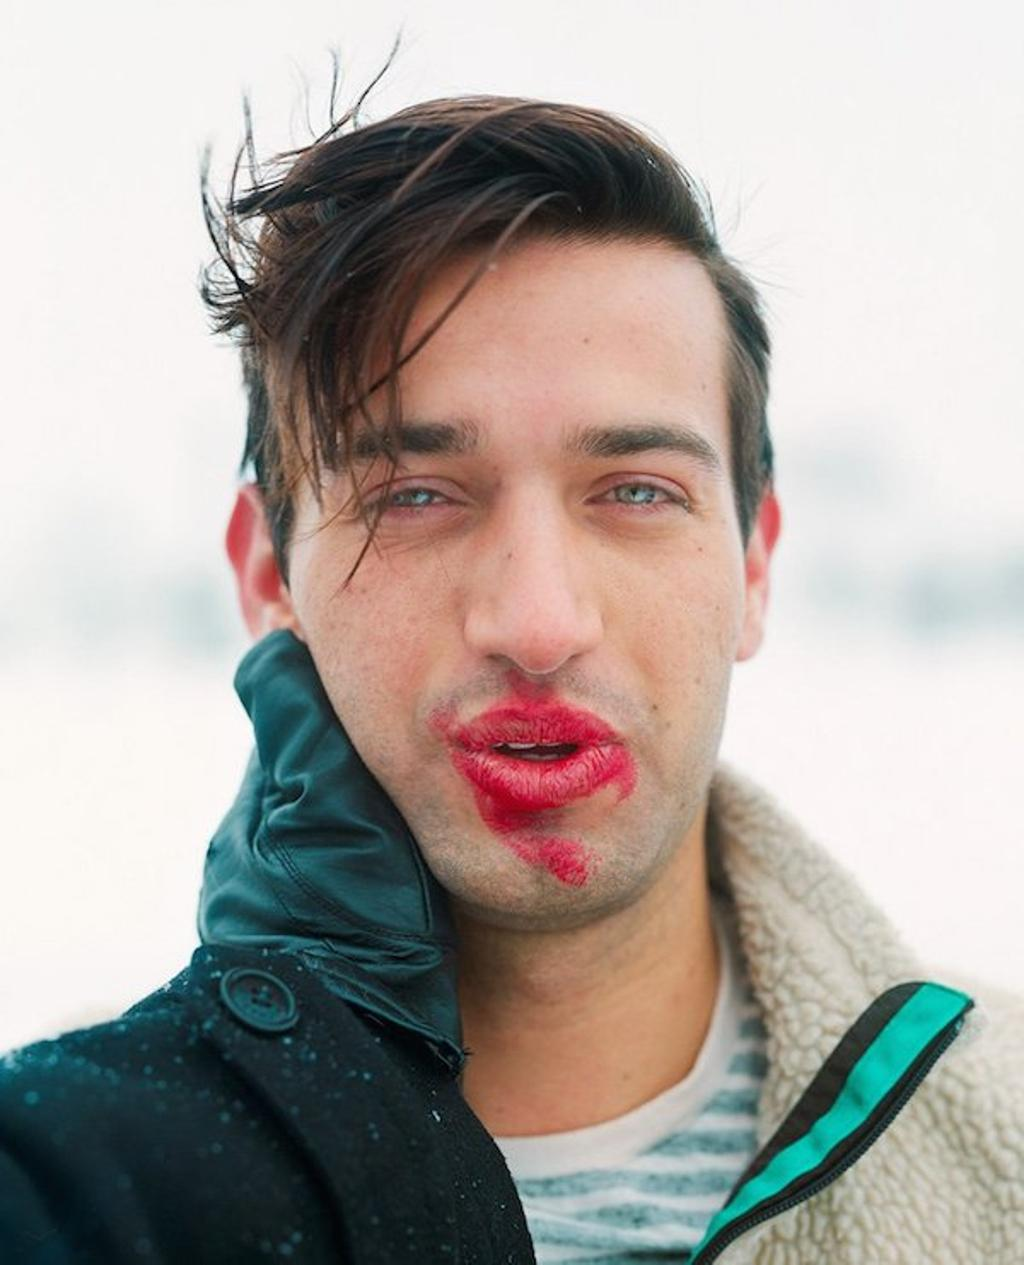face: (303, 259, 740, 910)
